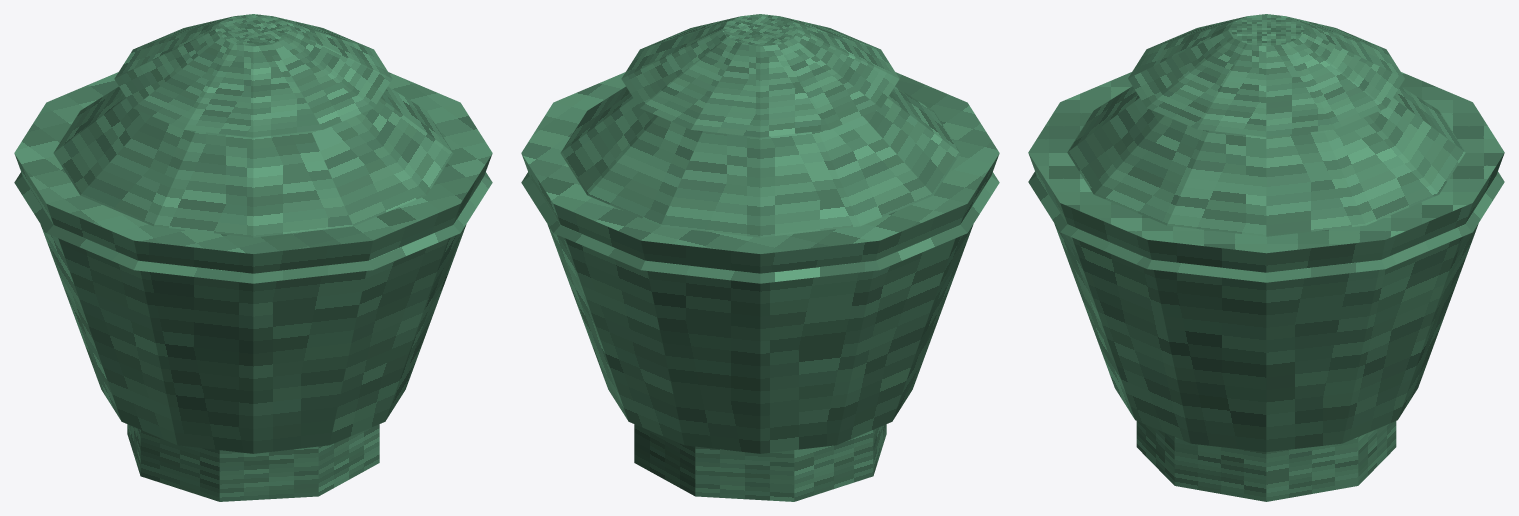
The model's file is urn_51.glb.
The picture shows the model from 3 angles, left to right: view 1: azimuth 30°, elevation 25°; view 2: azimuth 150°, elevation 25°; view 3: azimuth 270°, elevation 25°; orthographic projection.
Parts seen in each view (by area): view 1: Belly, Neck, Lid, Foot; view 2: Belly, Neck, Lid, Foot; view 3: Belly, Neck, Lid, Foot.
Part boxes in pixels (x1,y1,x2,y2): Belly: [14, 72, 492, 453]; Neck: [14, 86, 492, 283]; Lid: [114, 14, 392, 137]; Foot: [127, 424, 379, 501]; Belly: [521, 72, 999, 453]; Neck: [521, 86, 999, 283]; Lid: [621, 14, 899, 137]; Foot: [634, 424, 886, 501]; Belly: [1028, 72, 1504, 452]; Neck: [1028, 86, 1504, 282]; Lid: [1128, 14, 1404, 137]; Foot: [1136, 421, 1396, 501].
Size of the model in its own units: 1.25 by 1.2 by 1.25.
Materials: 1 (1 with a texture image).
